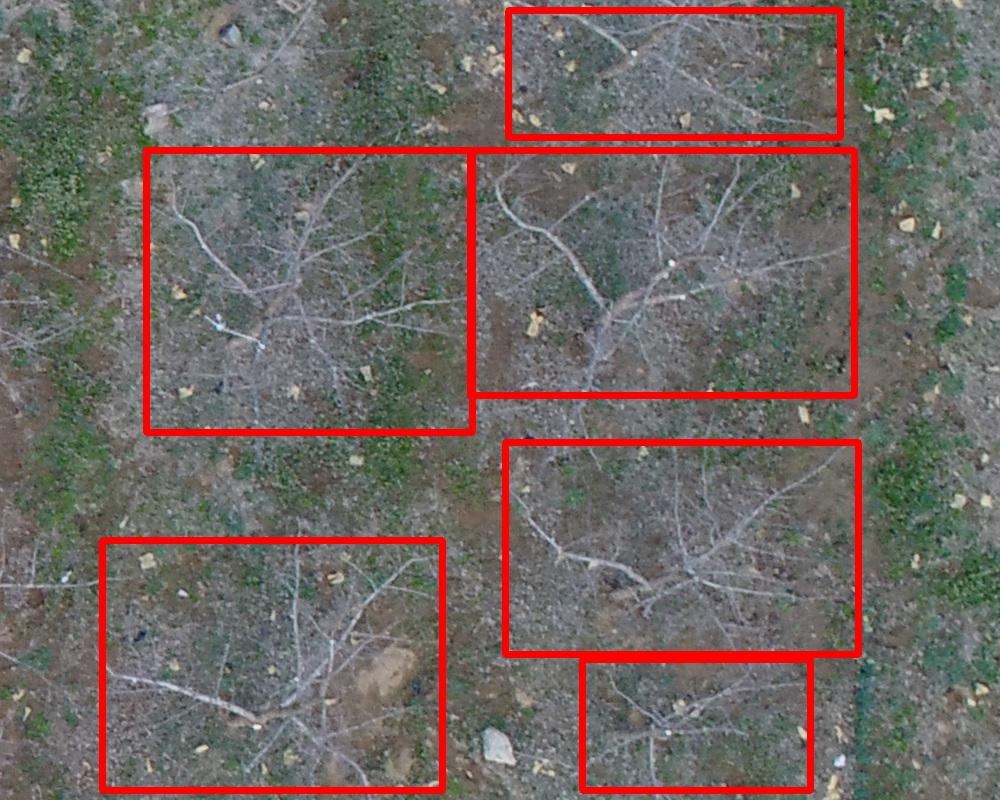apple: (470, 150, 854, 395), (146, 150, 472, 432), (102, 540, 442, 790), (505, 442, 858, 654), (508, 10, 840, 137), (582, 659, 810, 790)
